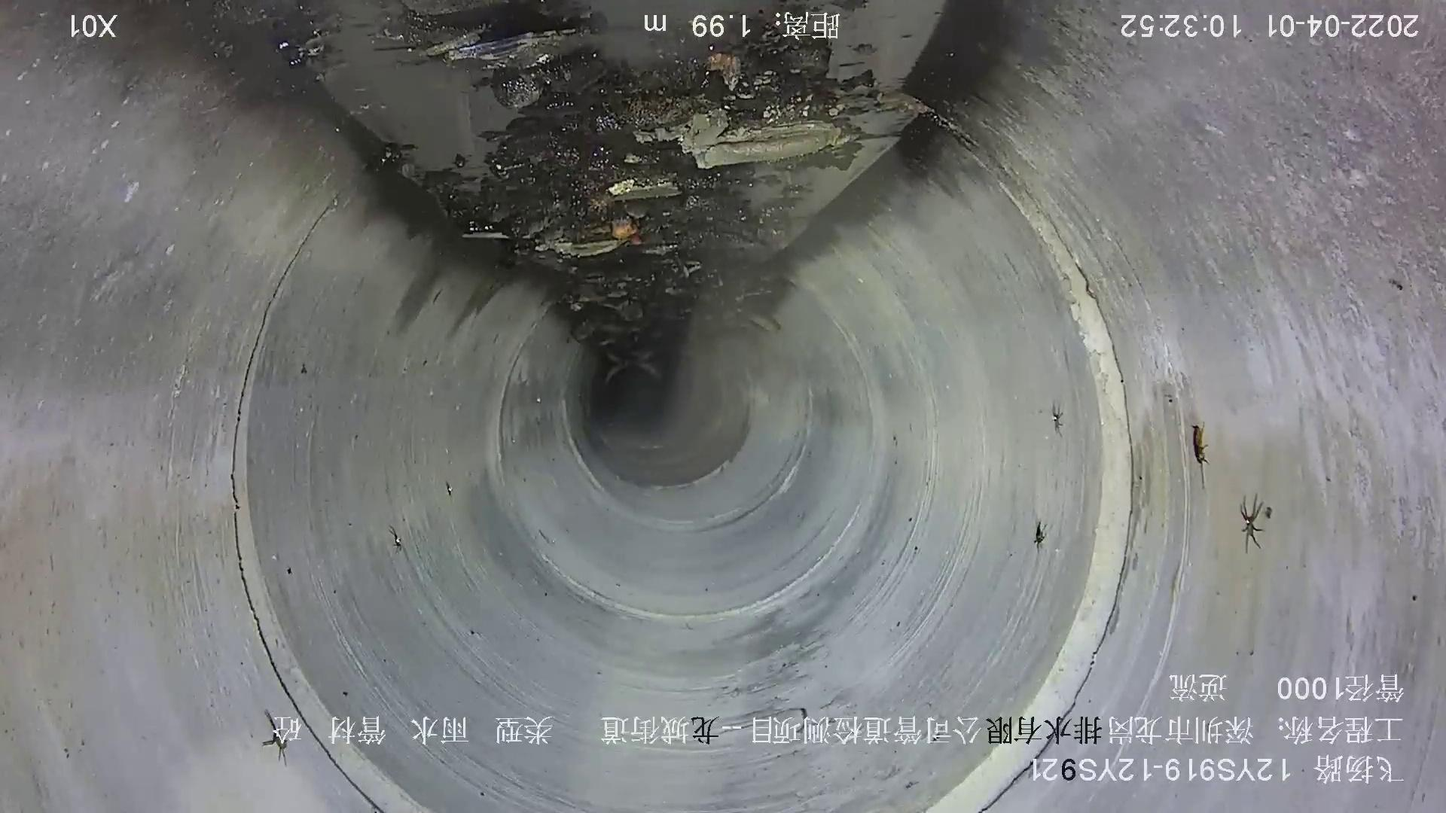CJ: (218, 1, 944, 370)
CKTJ: (893, 87, 1154, 813), (226, 146, 437, 811)
